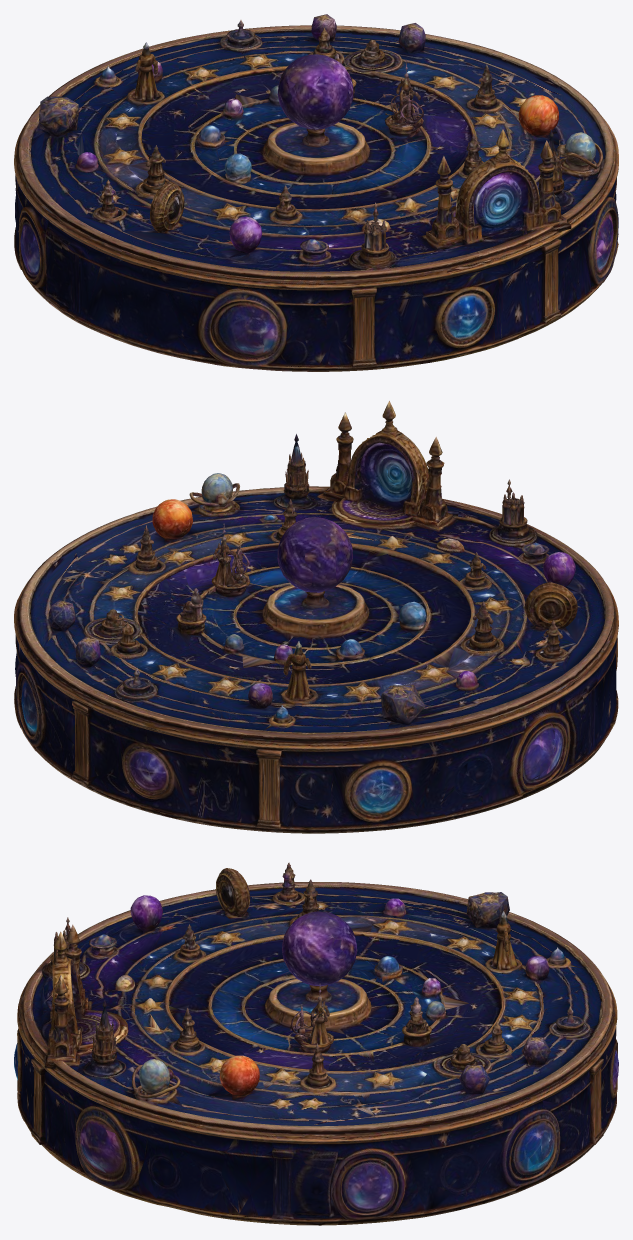
The model's file is Celestial_Orrery_of_D.glb.
3 renders of one model, top to bottom at view 1: azimuth 30°, elevation 25°; view 2: azimuth 150°, elevation 25°; view 3: azimuth 270°, elevation 25°, orthographic.
Visible parts, largest first — view 1: Celestial_Orrery_of_D; view 2: Celestial_Orrery_of_D; view 3: Celestial_Orrery_of_D.
Boxes of the visible parts, x1=… form: Celestial_Orrery_of_D: x1=14, y1=14, x2=618, y2=371; Celestial_Orrery_of_D: x1=14, y1=401, x2=618, y2=833; Celestial_Orrery_of_D: x1=14, y1=862, x2=618, y2=1225.
Size of the model in its own units: 1.9 by 0.6783 by 1.89.
Materials: 1 (1 with a texture image).
